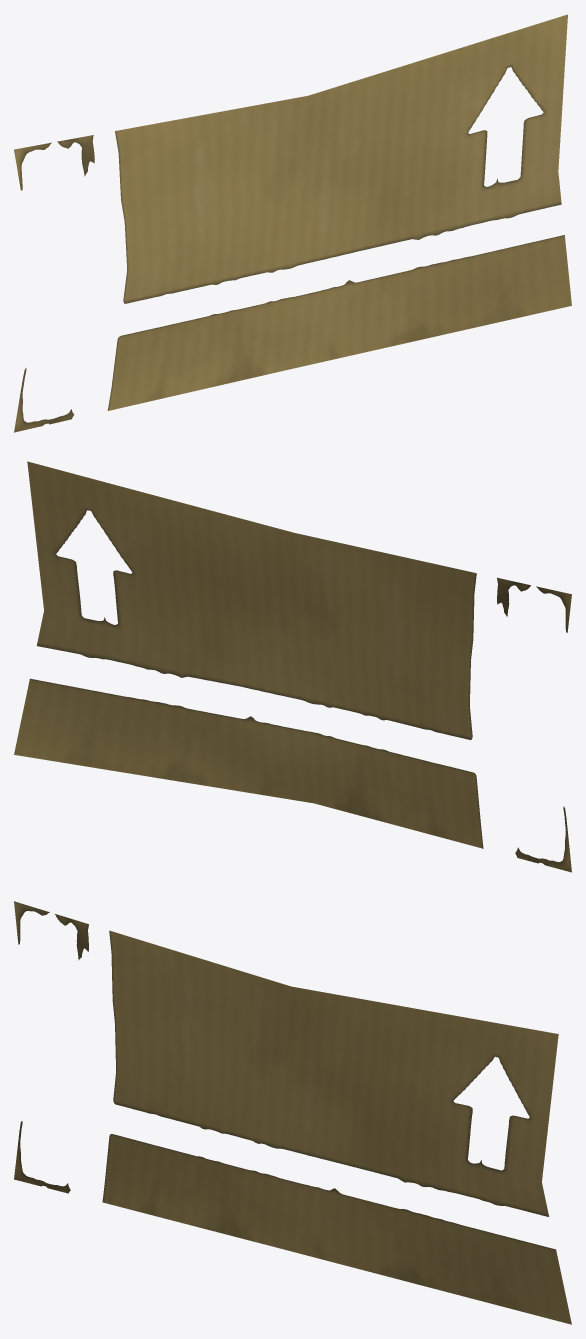
File: p_mesh_vegetablebox_part02.fbx
3 views of the same model, one above another, from view 1: azimuth 30°, elevation 25°; view 2: azimuth 150°, elevation 25°; view 3: azimuth 330°, elevation 25° (orthographic).
Parts seen in each view (by area): view 1: p_stackedpaper_paper02; view 2: p_stackedpaper_paper02; view 3: p_stackedpaper_paper02.
Part boxes in pixels (x1=…): p_stackedpaper_paper02: x1=14, y1=14, x2=571, y2=432; p_stackedpaper_paper02: x1=14, y1=461, x2=571, y2=872; p_stackedpaper_paper02: x1=14, y1=901, x2=571, y2=1324.
Size of the model in its own units: 4.14 by 2.09 by 0.1368.
